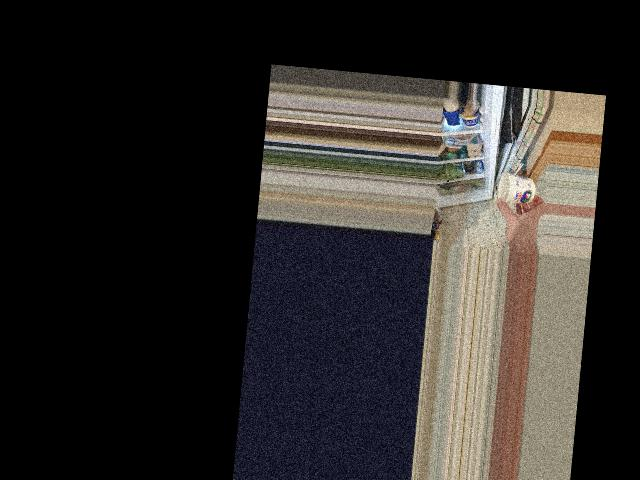cotage: (492, 173, 536, 205)
